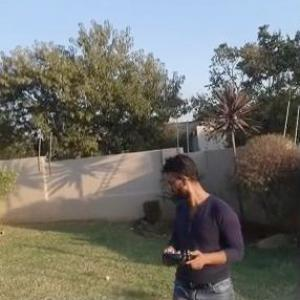follow: (157, 149, 250, 299)
